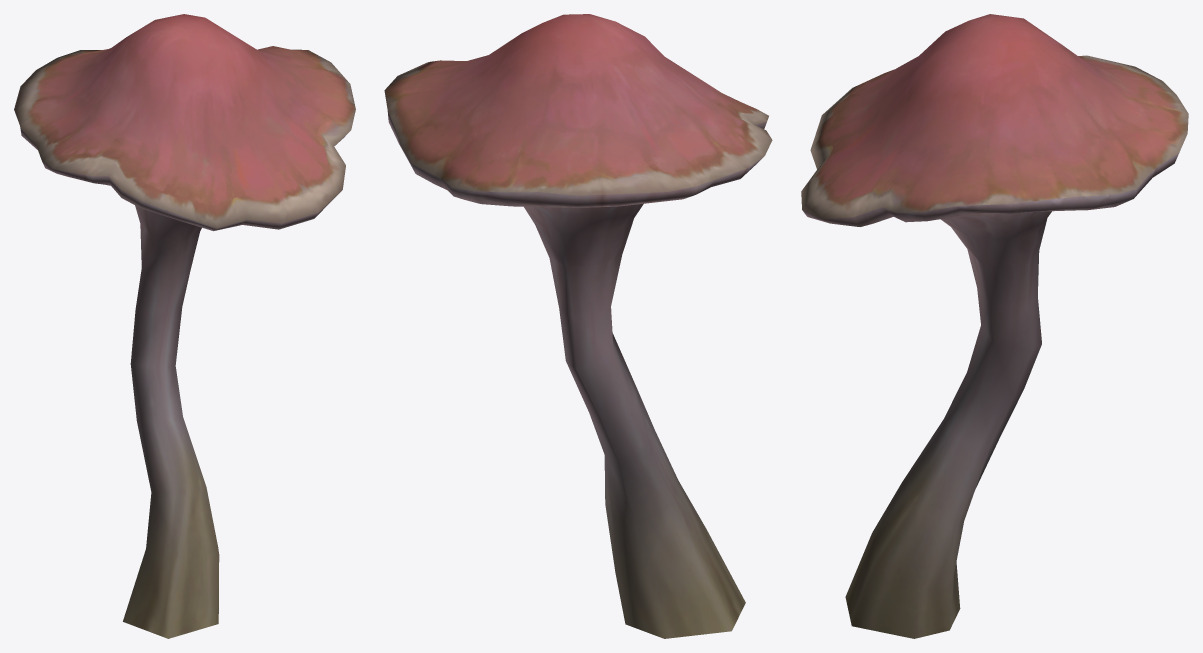
The model's file is Homeworld_Exterior_Cyjy_Plant_Grass_ChasmMushroom_02_Lod0.fbx.
3 views of the same model, side by side, from view 1: azimuth 30°, elevation 25°; view 2: azimuth 150°, elevation 25°; view 3: azimuth 270°, elevation 25° (orthographic). The views are drawn at different scales.
Parts seen in each view (by area): view 1: Area_Cyjy_Prop_DOWN_Mogu_09_Lod0; view 2: Area_Cyjy_Prop_DOWN_Mogu_09_Lod0; view 3: Area_Cyjy_Prop_DOWN_Mogu_09_Lod0.
Boxes of the visible parts, x1,y1,x2,y2 form: Area_Cyjy_Prop_DOWN_Mogu_09_Lod0: (14, 14, 355, 638); Area_Cyjy_Prop_DOWN_Mogu_09_Lod0: (384, 14, 772, 638); Area_Cyjy_Prop_DOWN_Mogu_09_Lod0: (801, 14, 1188, 638).
Size of the model in its own units: 2.21 by 3.82 by 2.18.
Materials: 1 (1 with a texture image).
